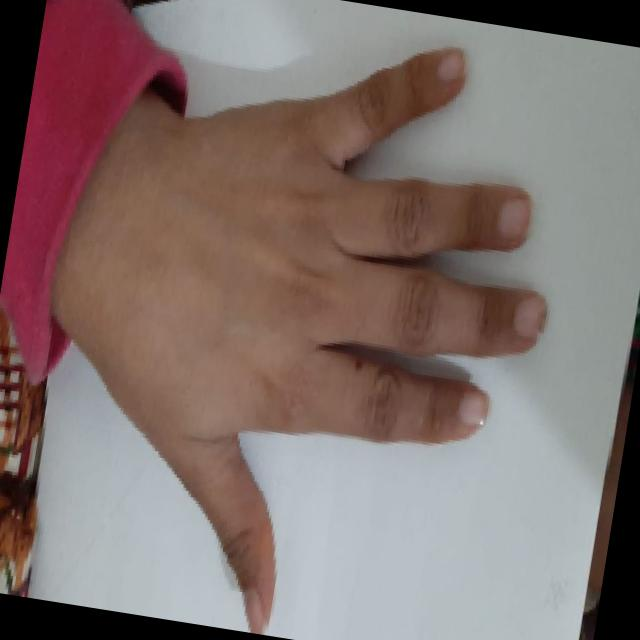Nail: (513, 295, 546, 337), (497, 197, 530, 238), (460, 391, 489, 425), (244, 589, 265, 634), (437, 49, 464, 82)
